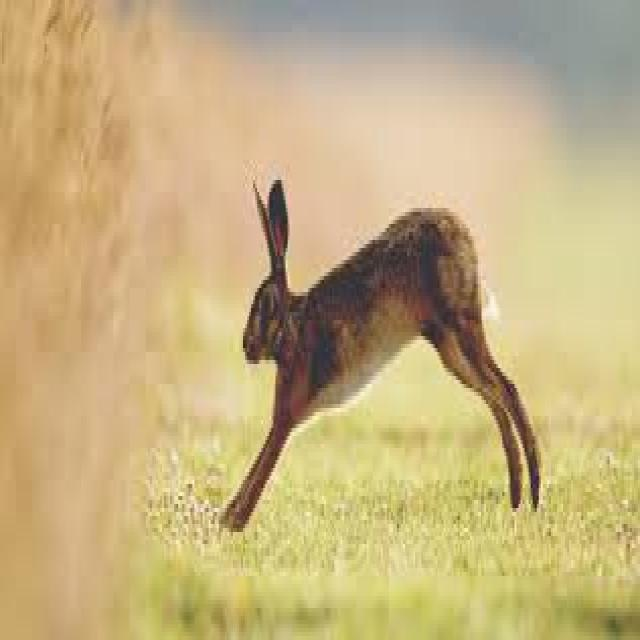Hare: (217, 172, 542, 532)
